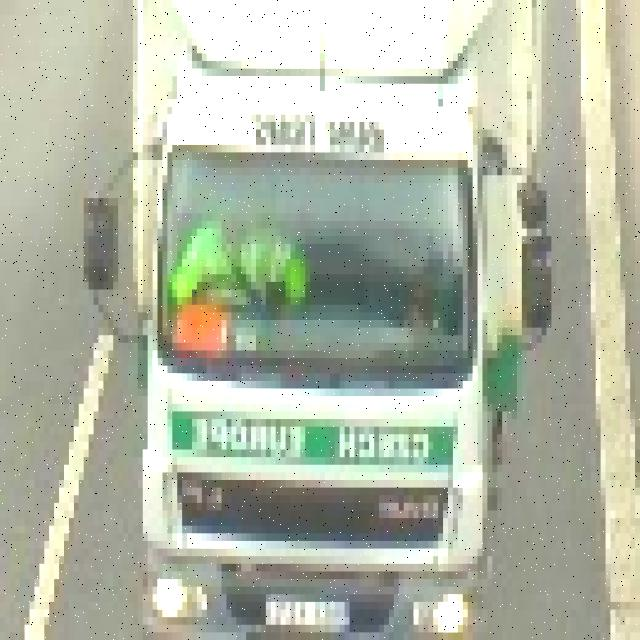truck: (84, 0, 546, 625)
